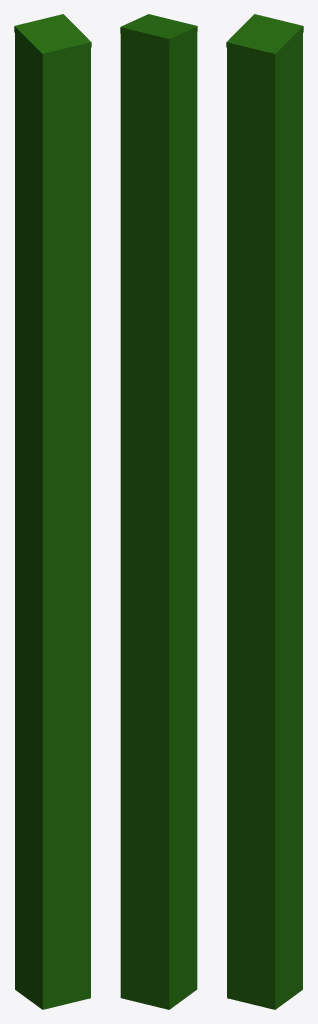
File: fence_post.glb
3 views of the same model, side by side, from view 1: azimuth 30°, elevation 25°; view 2: azimuth 150°, elevation 25°; view 3: azimuth 330°, elevation 25° (orthographic).
Visible parts, largest first — view 1: Cube.003; view 2: Cube.003; view 3: Cube.003.
Part boxes in pixels (x1,y1,x2,y2): Cube.003: [14, 14, 91, 1009]; Cube.003: [120, 14, 197, 1009]; Cube.003: [226, 14, 303, 1009].
Size of the model in its own units: 0.0947 by 1.78 by 0.0942.
1 material, 1 textured.
